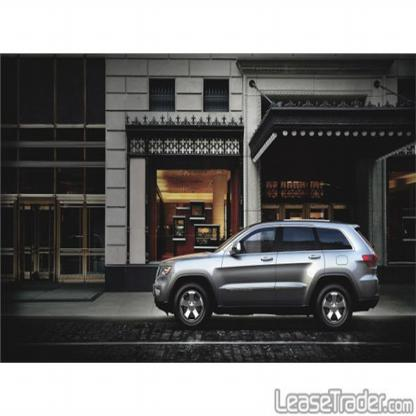Vehicle: (153, 220, 382, 334)
